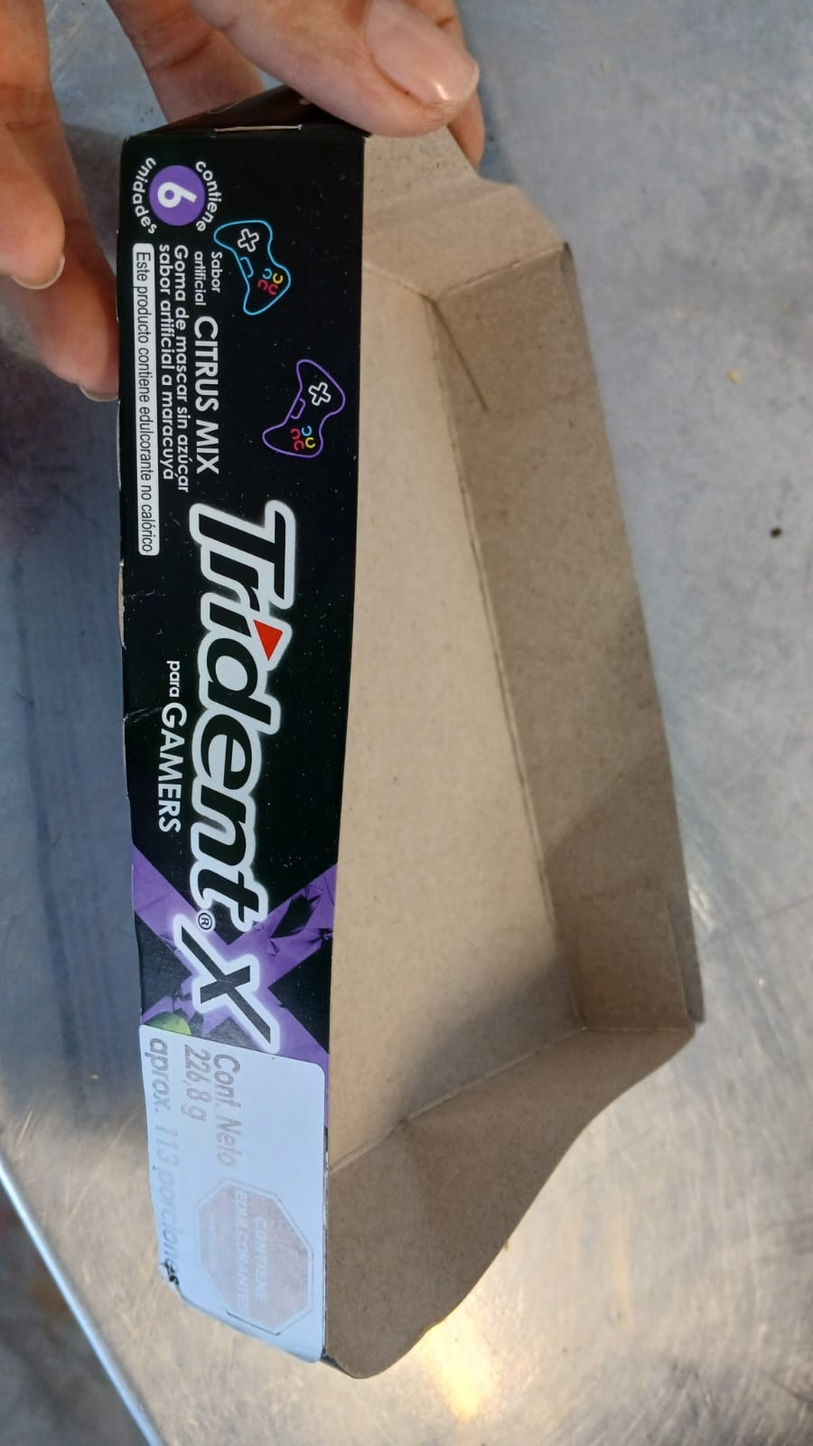Carton: (119, 75, 710, 1379)
